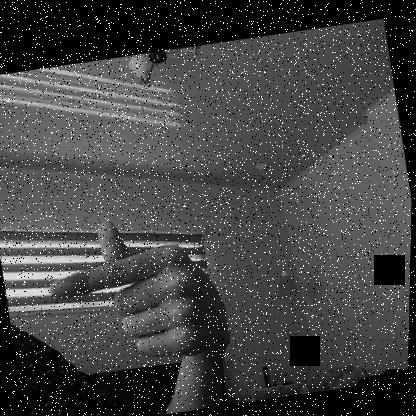T: (40, 200, 234, 376)
